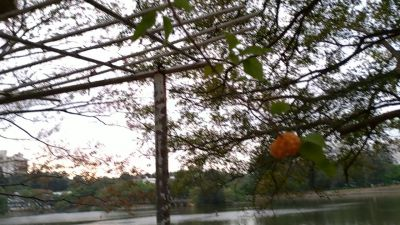eggs: (269, 131, 302, 160)
